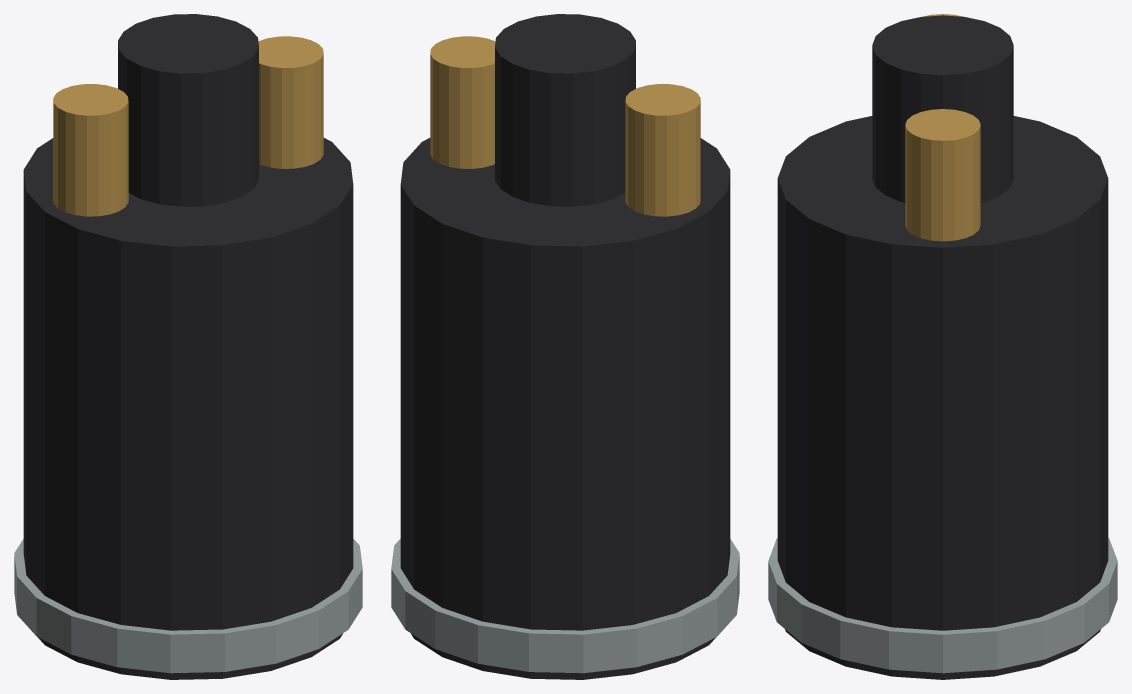
File: ENG_IgnitionCoil.glb
3 renders of one model, left to right at view 1: azimuth 30°, elevation 25°; view 2: azimuth 150°, elevation 25°; view 3: azimuth 270°, elevation 25°, orthographic.
Visible parts, largest first — view 1: Housing, Tower, Terminals, Crimp; view 2: Housing, Tower, Terminals, Crimp; view 3: Housing, Tower, Crimp, Terminals.
Part boxes in pixels (box(x1,y1,x2,y2)): Housing: box(23, 138, 353, 679); Tower: box(118, 14, 258, 206); Terminals: box(53, 36, 323, 216); Crimp: box(14, 539, 362, 673); Housing: box(400, 138, 730, 679); Tower: box(495, 14, 635, 206); Terminals: box(430, 36, 700, 216); Crimp: box(391, 539, 739, 673); Housing: box(777, 116, 1108, 679); Tower: box(872, 15, 1013, 202); Crimp: box(768, 538, 1117, 673); Terminals: box(905, 14, 980, 241).
Size of the model in its own units: 0.074 by 0.132 by 0.074.
